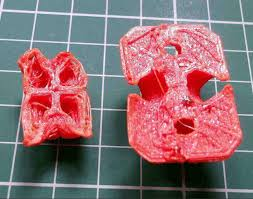fail: (16, 43, 98, 144), (158, 108, 206, 142), (144, 65, 171, 100)
